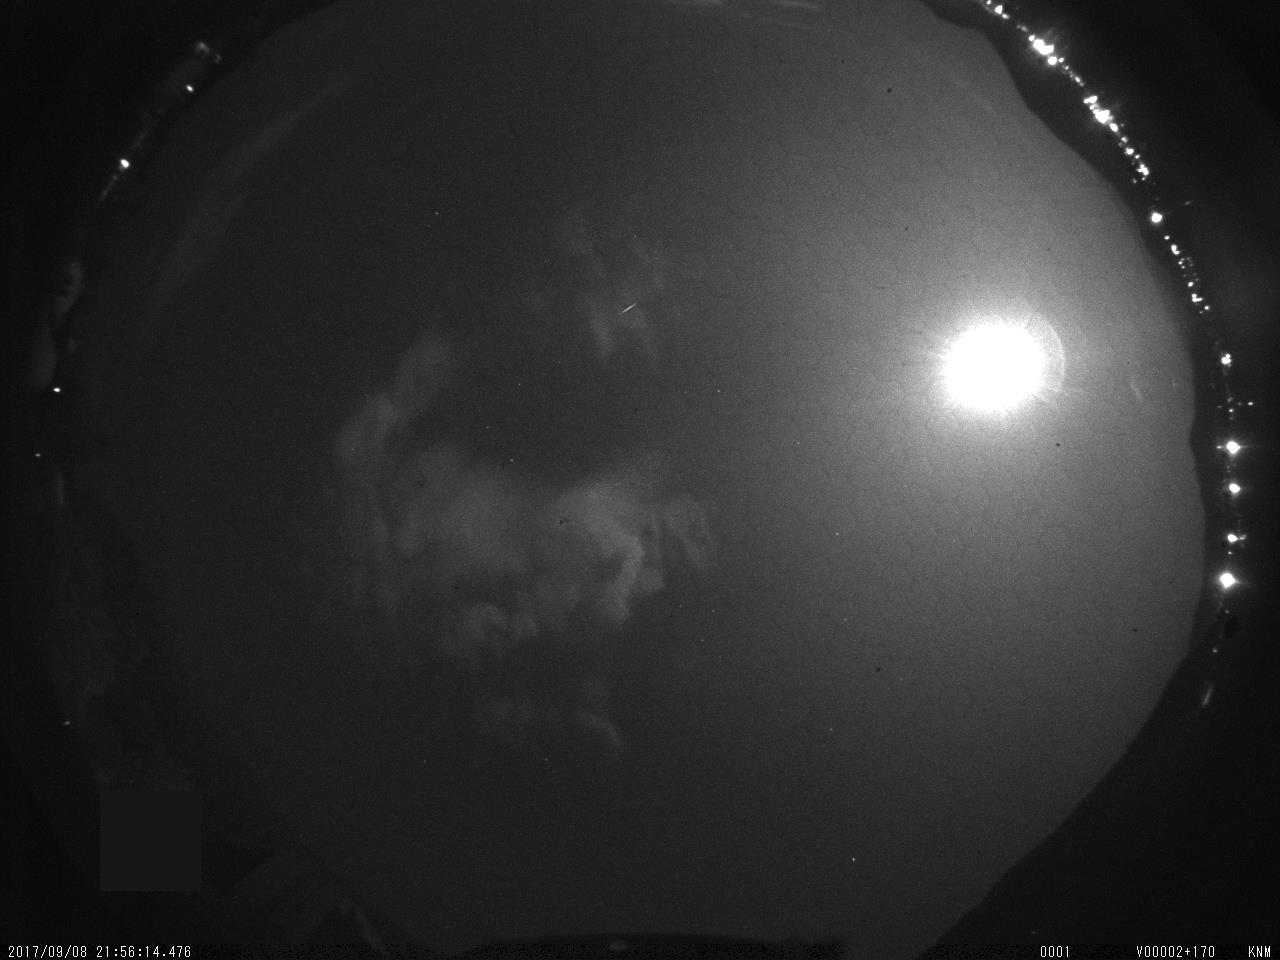meteor: (601, 295, 653, 320)
